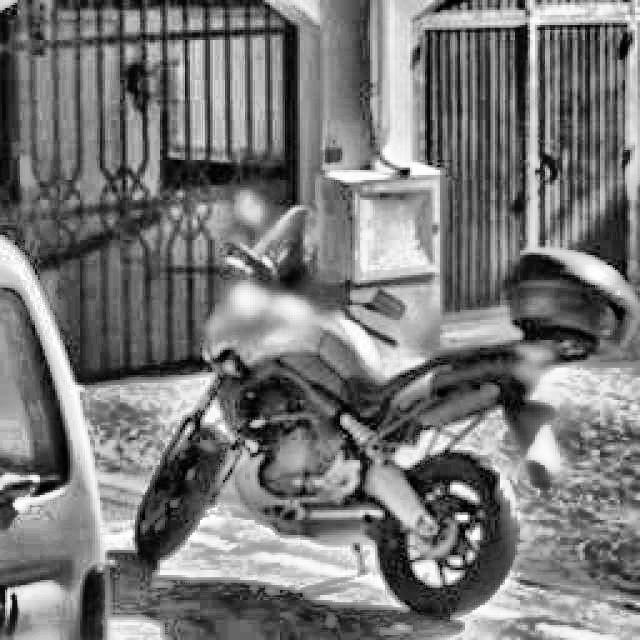motorcycle: (120, 194, 635, 620)
